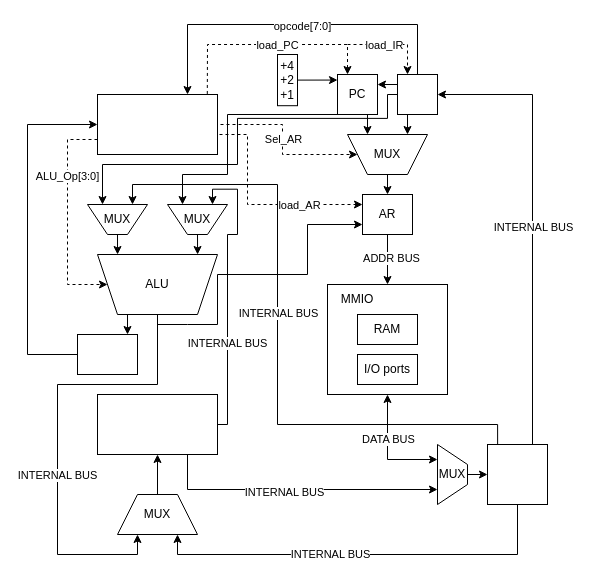
Image size: 590x580. Some labels were removed from this diagram. Each missing label, with the centre of its shape:
ACC: pixel 157 424
Control Unit: pixel 157 124
DR: pixel 517 474
IR: pixel 417 94
Status Register: pixel 107 354
